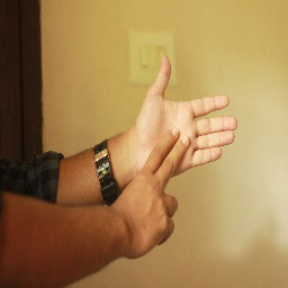N: (121, 53, 247, 249)
